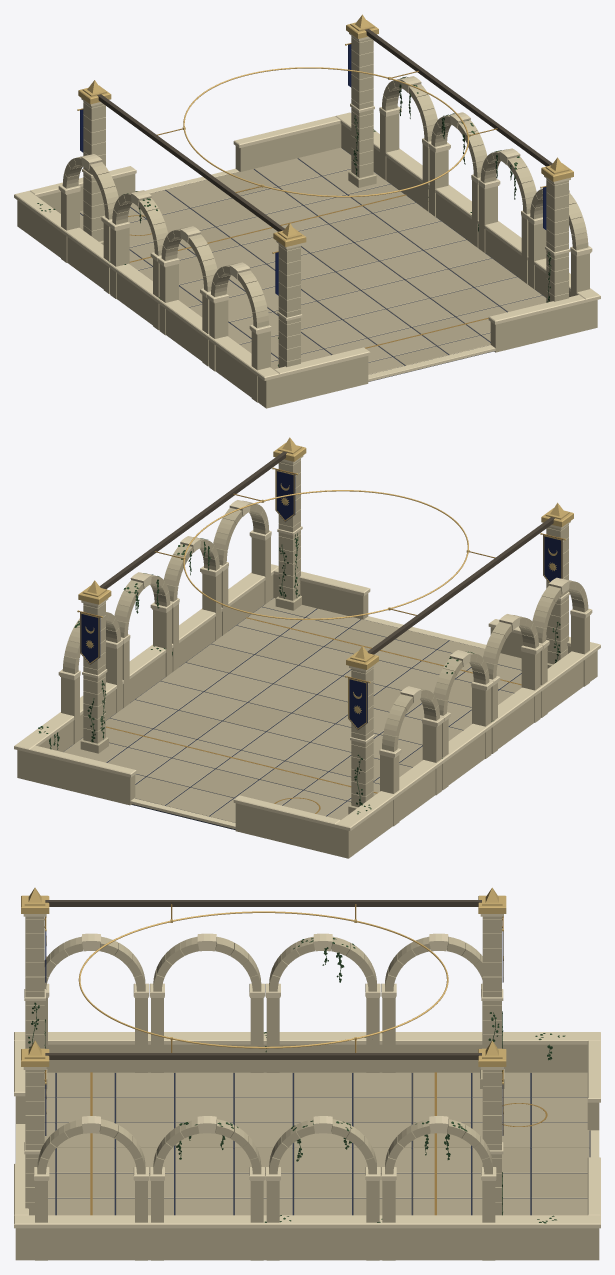
File: shadow-room1-v01.glb
The picture shows the model from 3 angles, top to bottom: view 1: azimuth 30°, elevation 25°; view 2: azimuth 150°, elevation 25°; view 3: azimuth 270°, elevation 25°; orthographic projection. The views are drawn at different scales.
Visible parts, largest first — view 1: Shadow sandstone 5, Shadow floor warm 2, Shadow sandstone light 3, Shadow floor warm alt 1, Shadow grout 0, Shadow bronze dark 10, Shadow gold 6, Shadow brass light 11, Shadow brass 4, Shadow ivy 9, Shadow banner cloth 7; view 2: Shadow sandstone 5, Shadow floor warm 2, Shadow sandstone light 3, Shadow floor warm alt 1, Shadow grout 0, Shadow banner cloth 7, Shadow bronze dark 10, Shadow gold 6, Shadow brass light 11, Shadow ivy 9, Shadow brass 4, Shadow banner emblem 8; view 3: Shadow sandstone 5, Shadow floor warm 2, Shadow sandstone light 3, Shadow floor warm alt 1, Shadow bronze dark 10, Shadow grout 0, Shadow gold 6, Shadow brass light 11, Shadow ivy 9, Shadow brass 4.
Boxes of the visible parts, bbox=[...] form: Shadow sandstone 5: bbox=[17, 36, 597, 408]; Shadow floor warm 2: bbox=[80, 147, 546, 374]; Shadow sandstone light 3: bbox=[14, 32, 600, 381]; Shadow floor warm alt 1: bbox=[80, 169, 516, 369]; Shadow grout 0: bbox=[80, 148, 545, 381]; Shadow bronze dark 10: bbox=[97, 29, 552, 231]; Shadow gold 6: bbox=[77, 14, 573, 253]; Shadow brass light 11: bbox=[183, 67, 468, 197]; Shadow brass 4: bbox=[79, 43, 546, 348]; Shadow ivy 9: bbox=[37, 76, 551, 366]; Shadow banner cloth 7: bbox=[80, 44, 546, 295]; Shadow sandstone 5: bbox=[17, 458, 597, 858]; Shadow floor warm 2: bbox=[63, 598, 521, 822]; Shadow sandstone light 3: bbox=[14, 455, 600, 831]; Shadow floor warm alt 1: bbox=[106, 628, 521, 805]; Shadow grout 0: bbox=[64, 598, 521, 829]; Shadow banner cloth 7: bbox=[80, 469, 562, 729]; Shadow bronze dark 10: bbox=[99, 451, 554, 654]; Shadow gold 6: bbox=[77, 437, 573, 683]; Shadow brass light 11: bbox=[183, 490, 468, 619]; Shadow ivy 9: bbox=[38, 533, 560, 814]; Shadow brass 4: bbox=[78, 468, 563, 813]; Shadow banner emblem 8: bbox=[80, 469, 562, 729]; Shadow sandstone 5: bbox=[15, 916, 599, 1260]; Shadow floor warm 2: bbox=[44, 1072, 589, 1215]; Shadow sandstone light 3: bbox=[14, 914, 600, 1228]; Shadow floor warm alt 1: bbox=[47, 1072, 587, 1215]; Shadow bronze dark 10: bbox=[45, 900, 481, 1059]; Shadow grout 0: bbox=[46, 1073, 590, 1215]; Shadow gold 6: bbox=[21, 887, 506, 1084]; Shadow brass light 11: bbox=[78, 911, 448, 1048]; Shadow ivy 9: bbox=[28, 938, 565, 1223]; Shadow brass 4: bbox=[44, 904, 547, 1215].
Bounding box in the file's own units: 15.33 × 7.62 × 19.77.
